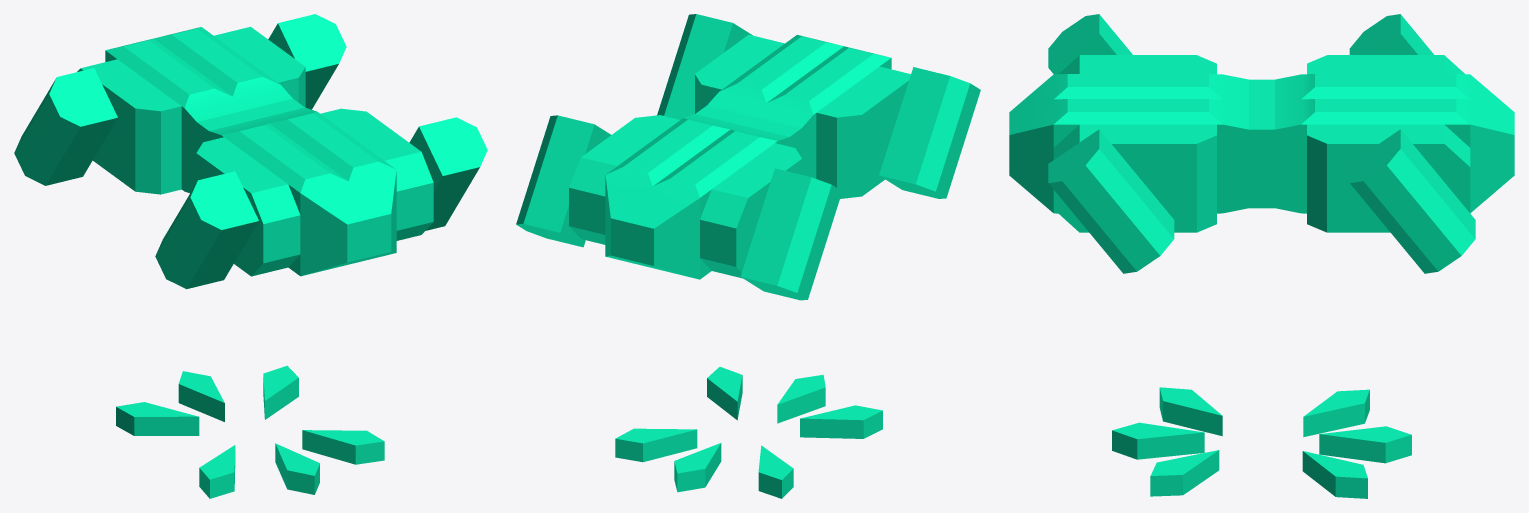
Rendered from transport_marker.fbx.
3 renders of one model, left to right at view 1: azimuth 30°, elevation 25°; view 2: azimuth 150°, elevation 25°; view 3: azimuth 270°, elevation 25°, orthographic. The views are drawn at different scales.
Parts seen in each view (by area): view 1: Cube; view 2: Cube; view 3: Cube.
Part boxes in pixels (left/top/right/bottom): Cube: left=14, top=14, right=487, bottom=498; Cube: left=516, top=14, right=980, bottom=498; Cube: left=1009, top=14, right=1514, bottom=498.
Size of the model in its own units: 129 by 151 by 185.
